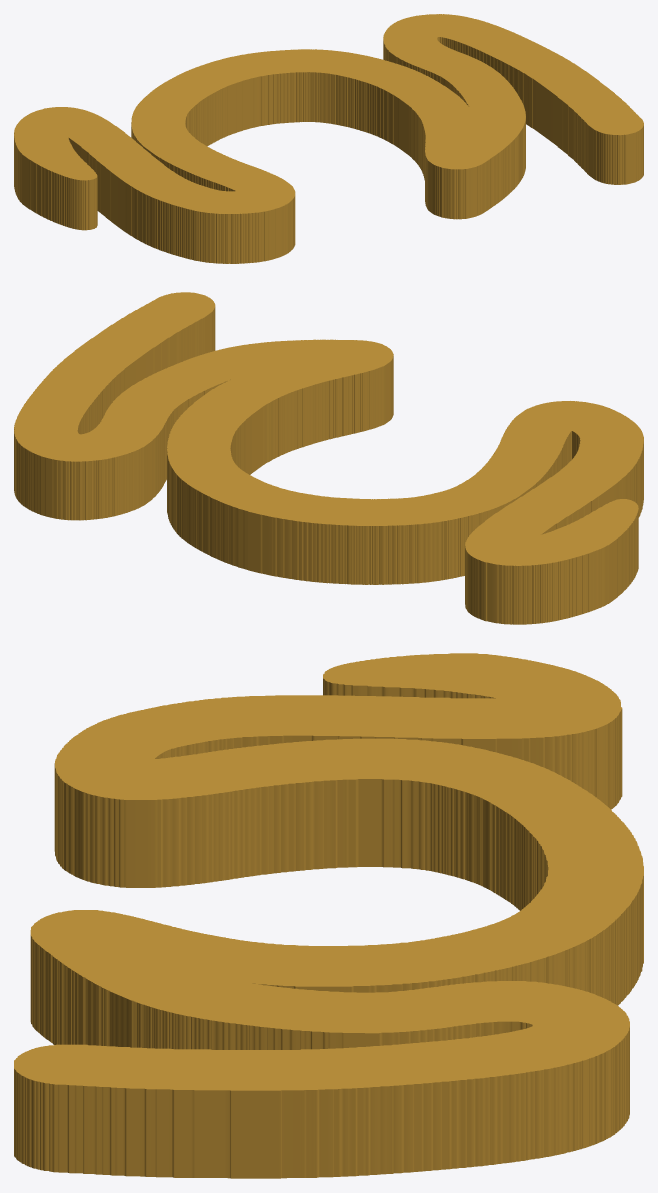
The picture shows the model from 3 angles, top to bottom: view 1: azimuth 30°, elevation 25°; view 2: azimuth 150°, elevation 25°; view 3: azimuth 270°, elevation 25°; orthographic projection. The views are drawn at different scales.
Visible parts, largest first — view 1: Curve.011; view 2: Curve.011; view 3: Curve.011.
Boxes of the visible parts, x1,y1,x2,y2 form: Curve.011: (14,14,643,263); Curve.011: (14,292,643,624); Curve.011: (14,653,643,1178).
Size of the model in its own units: 106 by 9.89 by 64.29.
